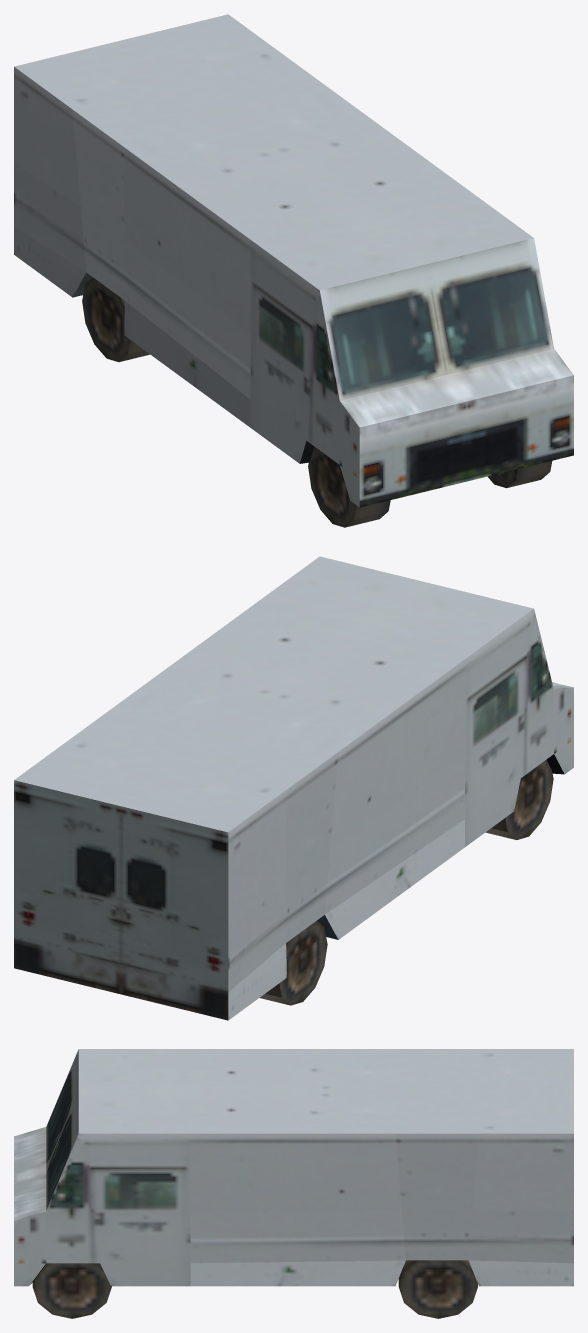
Rendered from Van.fbx.
3 renders of one model, top to bottom at view 1: azimuth 30°, elevation 25°; view 2: azimuth 150°, elevation 25°; view 3: azimuth 270°, elevation 25°, orthographic. The views are drawn at different scales.
Parts seen in each view (by area): view 1: Van; view 2: Van; view 3: Van.
Boxes of the visible parts, x1=… form: Van: x1=14, y1=14, x2=573, y2=527; Van: x1=14, y1=556, x2=573, y2=1020; Van: x1=14, y1=1049, x2=573, y2=1318.
Bounding box in the file's own units: 1.86 × 5.2 × 1.93.
1 material, 1 textured.
